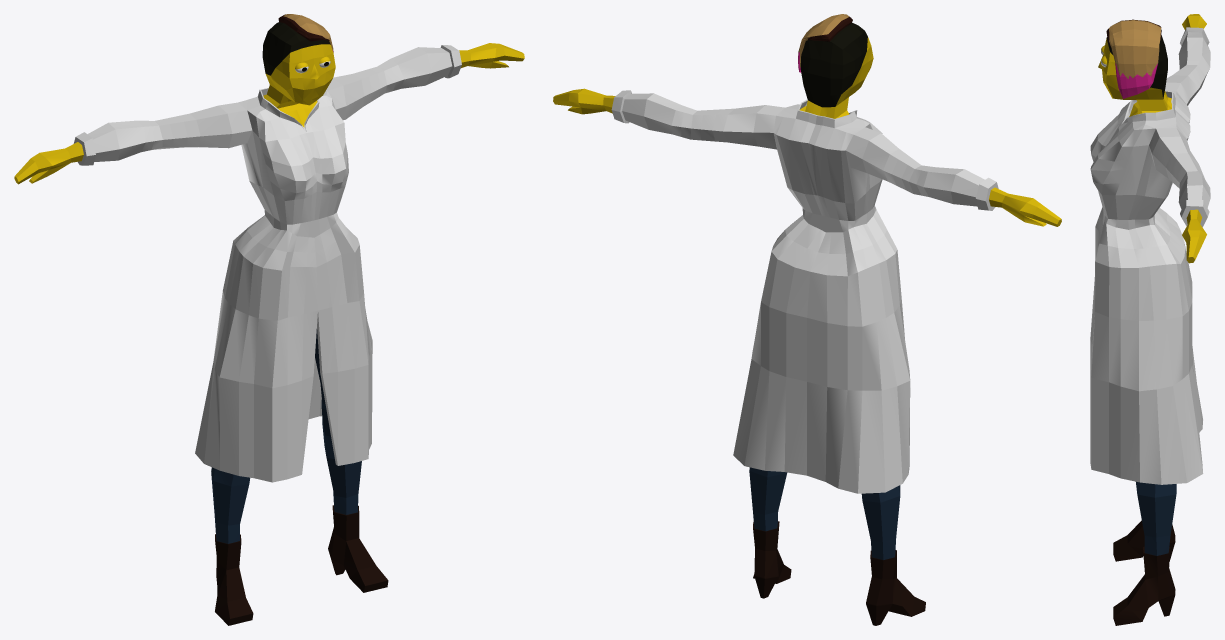
The model's file is Pharma_girl.fbx.
3 renders of one model, left to right at view 1: azimuth 30°, elevation 25°; view 2: azimuth 150°, elevation 25°; view 3: azimuth 270°, elevation 25°, orthographic. The views are drawn at different scales.
Parts seen in each view (by area): view 1: Pharma Girl; view 2: Pharma Girl; view 3: Pharma Girl.
Part boxes in pixels (bbox=[...]): Pharma Girl: bbox=[14, 14, 524, 625]; Pharma Girl: bbox=[553, 14, 1061, 625]; Pharma Girl: bbox=[1090, 14, 1210, 625].
Size of the model in its own units: 1.51 by 0.3178 by 1.65.
